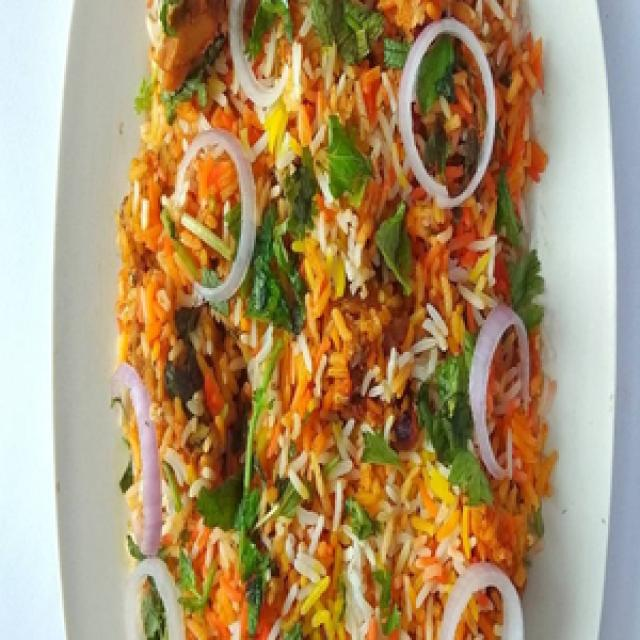chicken biriyani: (99, 0, 580, 640)
